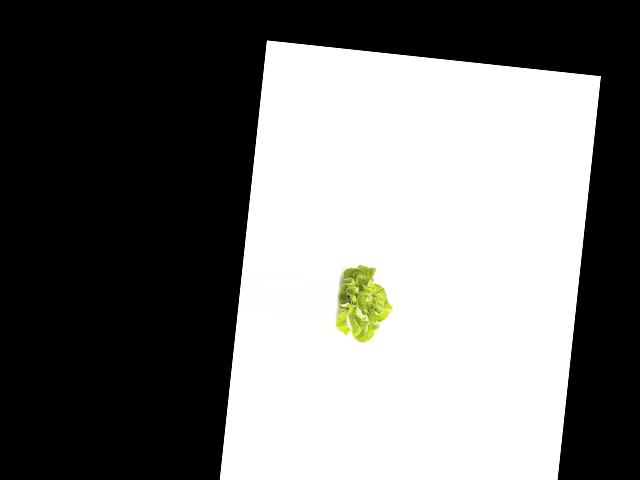lettuce: (332, 261, 396, 347)
